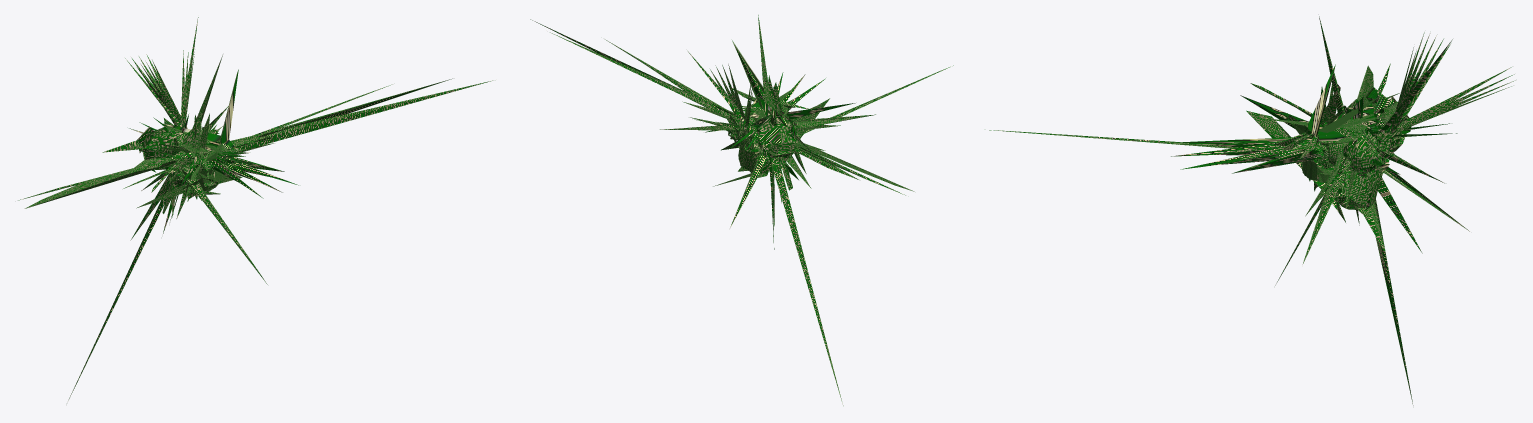
File: flor20.gltf
The picture shows the model from 3 angles, left to right: view 1: azimuth 30°, elevation 25°; view 2: azimuth 150°, elevation 25°; view 3: azimuth 270°, elevation 25°; orthographic projection. The views are drawn at different scales.
Parts seen in each view (by area): view 1: Icosphere; view 2: Icosphere; view 3: Icosphere.
Boxes of the visible parts, x1,y1,x2,y2 form: Icosphere: (18,17,493,400); Icosphere: (530,15,953,405); Icosphere: (989,16,1515,405).
Size of the model in its own units: 33.34 by 25.58 by 26.03.
1 material, 1 textured.
